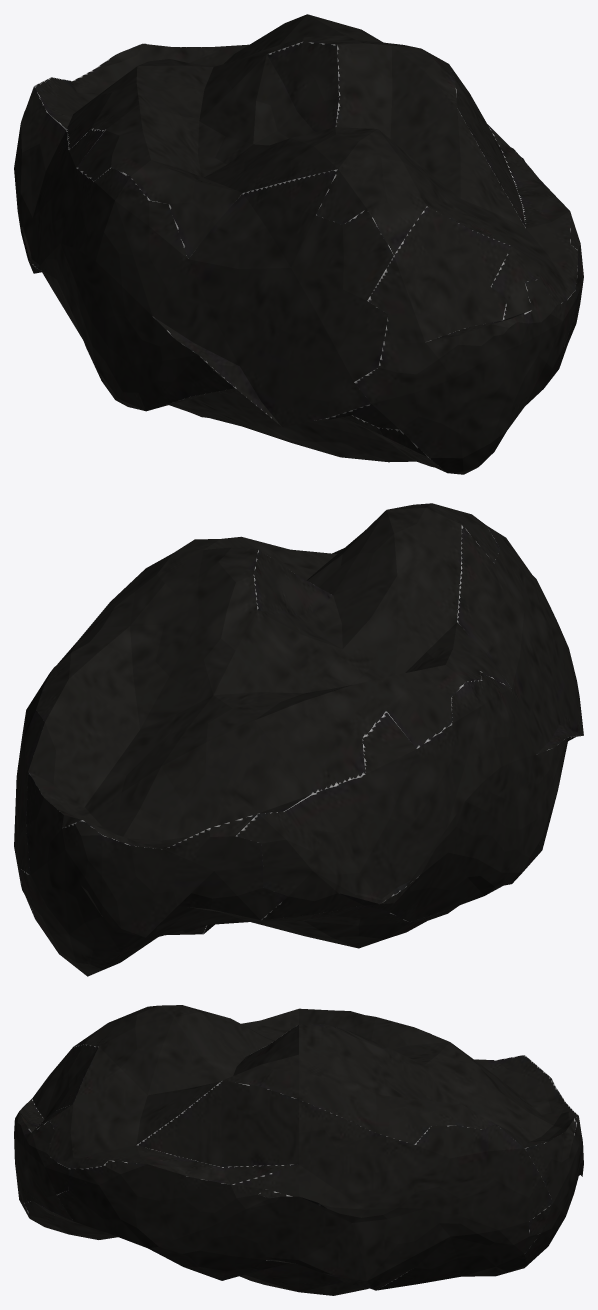
The model's file is asteroid4.dae.
3 renders of one model, top to bottom at view 1: azimuth 30°, elevation 25°; view 2: azimuth 150°, elevation 25°; view 3: azimuth 270°, elevation 25°, orthographic. The views are drawn at different scales.
Parts seen in each view (by area): view 1: asteroid4; view 2: asteroid4; view 3: asteroid4.
Part boxes in pixels (x1=…): asteroid4: x1=14, y1=14, x2=583, y2=474; asteroid4: x1=14, y1=503, x2=583, y2=976; asteroid4: x1=14, y1=1005, x2=583, y2=1295.
Bounding box in the file's own units: 292 × 234 × 462.
Materials: 1 (1 with a texture image).
